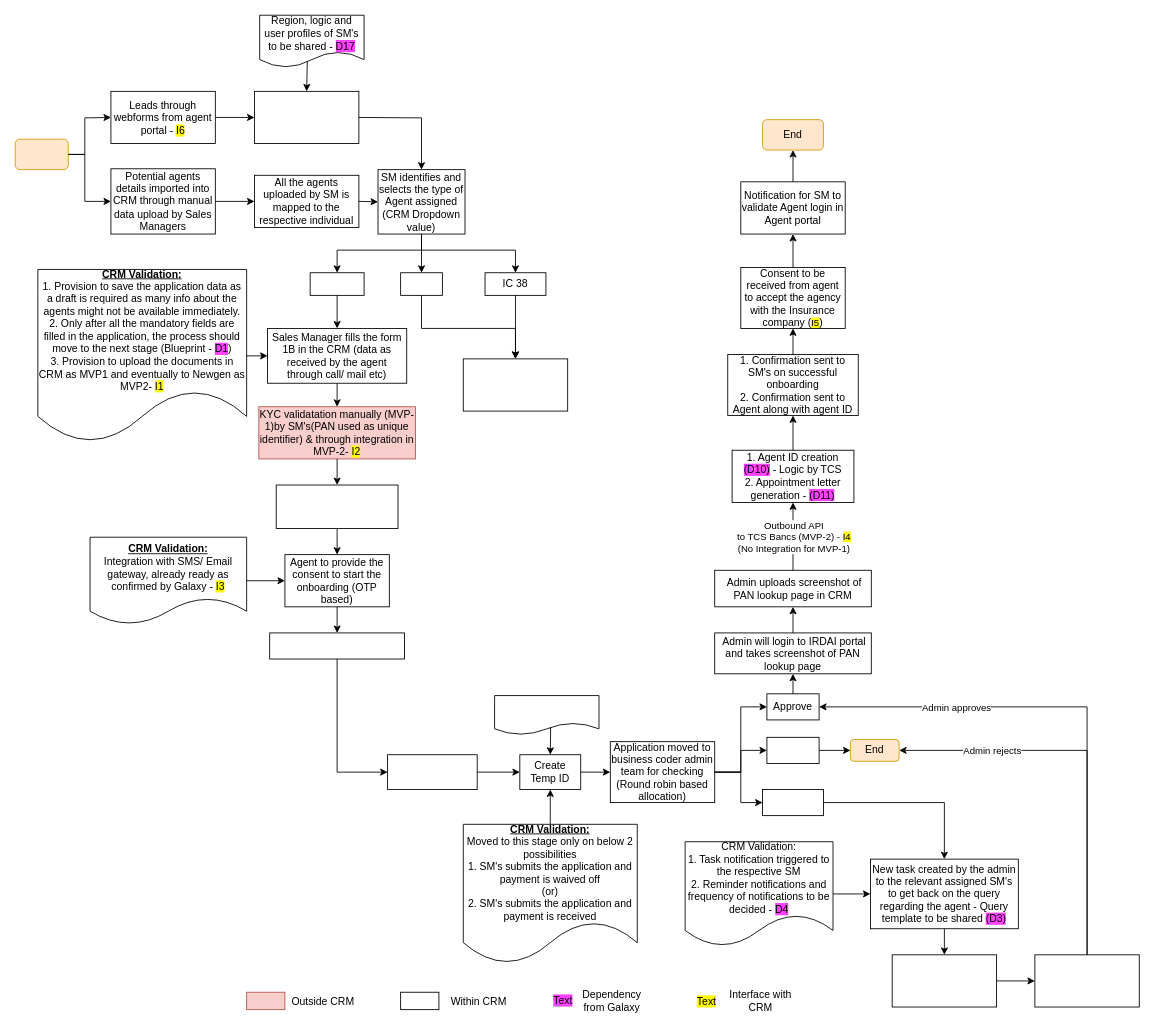
Some shapes in this 1154 by 1030 pixel diagram are drawn without their labels. The centre of each missing label's shape, as x and y in pixels:
"Composite" belongs at (336,283).
"NOC from existing Insurer (To be uploaded by SM)" belongs at (337,645).
"Notification sent back to Admin" belongs at (1086,980).
"POSP" belongs at (421,283).
"Raise a query" belongs at (792,802).
"Reject" belongs at (792,749).
"Shown in separate flow" belongs at (515,384).
"SM allocated based on leads originated regions/zones" belongs at (306,117).
"SM reviews, acts and resolves the task" belongs at (944,980).
"SM's submits the application form" belongs at (432,772).
"SM's uploads the relevant KYC/ Application documents" belongs at (336,506).
"Start" belongs at (41,154).
"The format of this ID to be defined - D2" belongs at (546,715).
